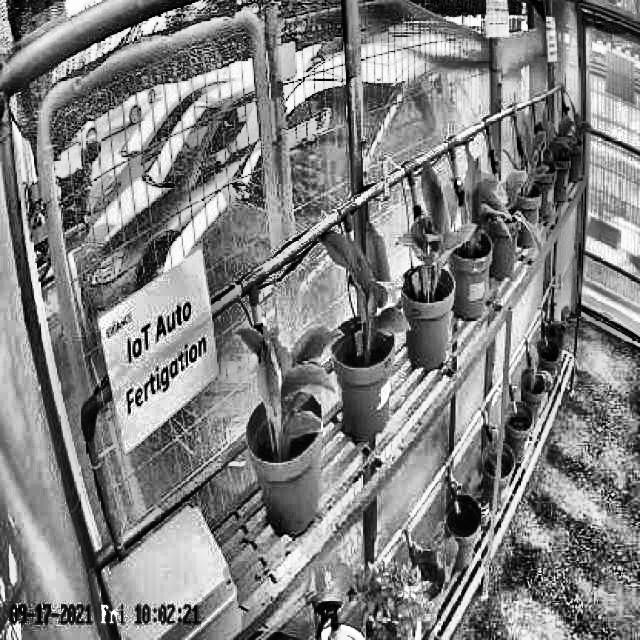plants: (314, 222, 410, 368), (236, 321, 338, 454), (399, 160, 476, 308), (448, 158, 507, 257)
